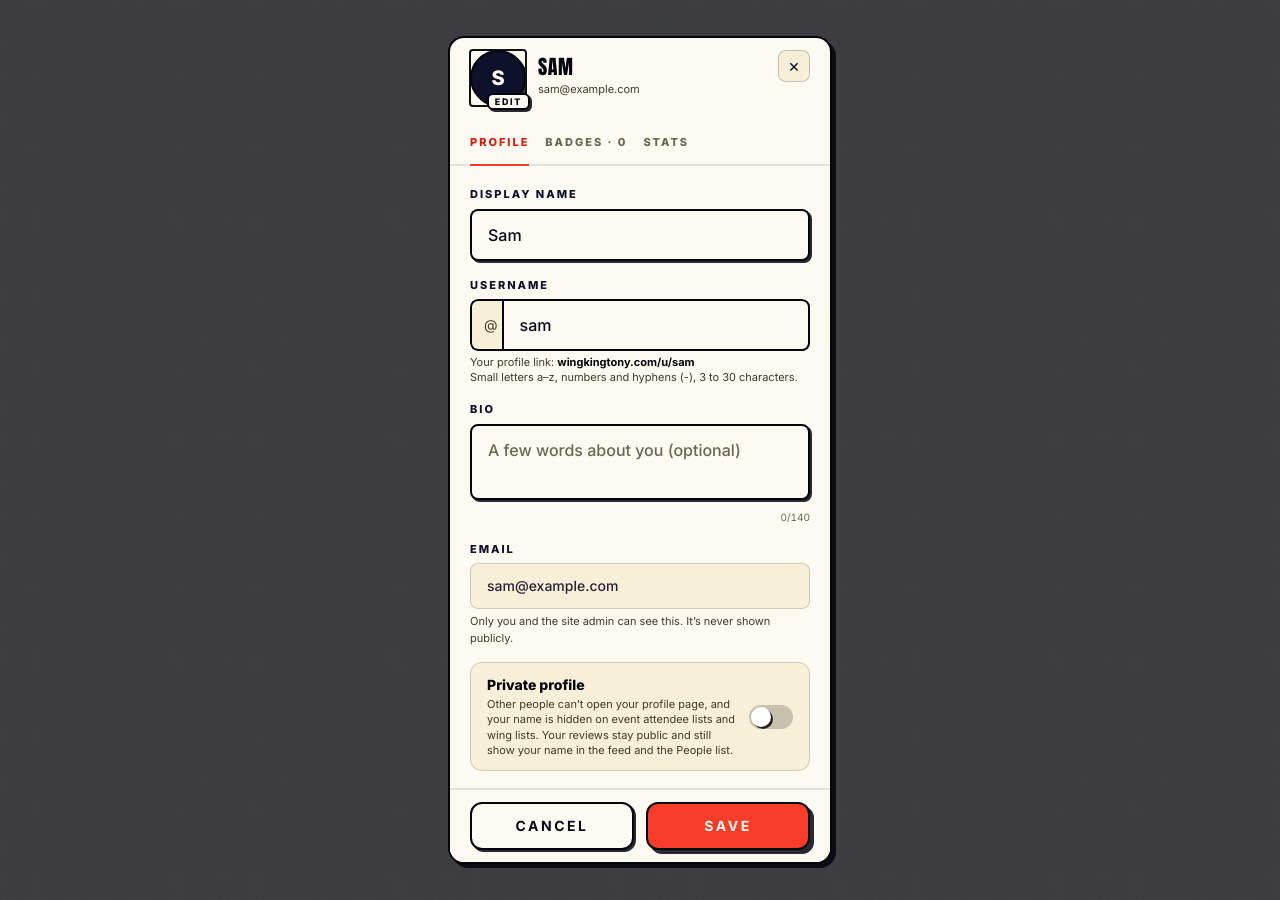
Scenario: ProfileModal › turns spaces into hyphens and capitals into small letters while typing
Step 1. Replace the text in the field labelled "Username" with "Sam The Man" → (656, 325), box x1=502 y1=299 x2=810 y2=351
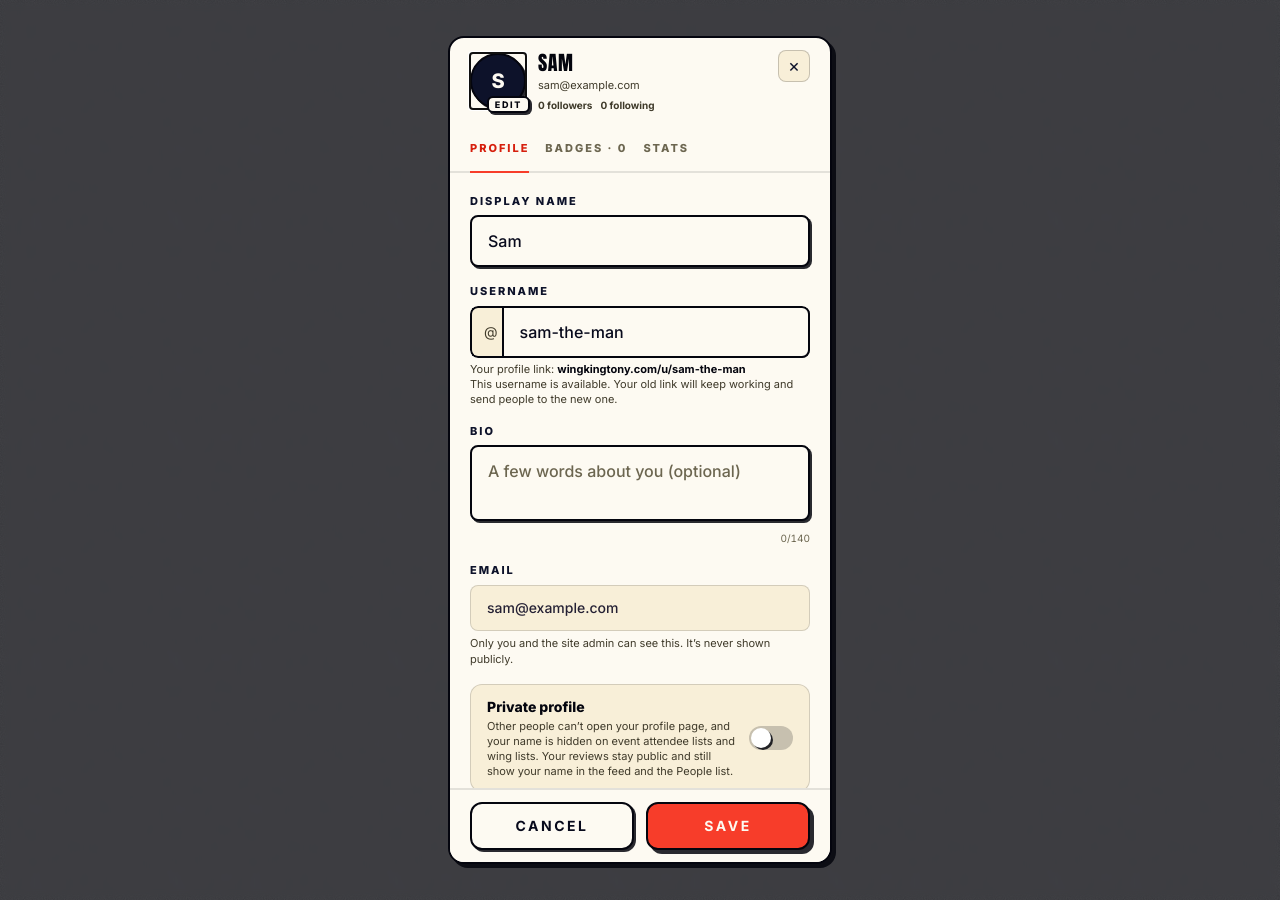
expect the field labelled "Username" holds "sam-the-man": met, box x1=502 y1=306 x2=810 y2=358
